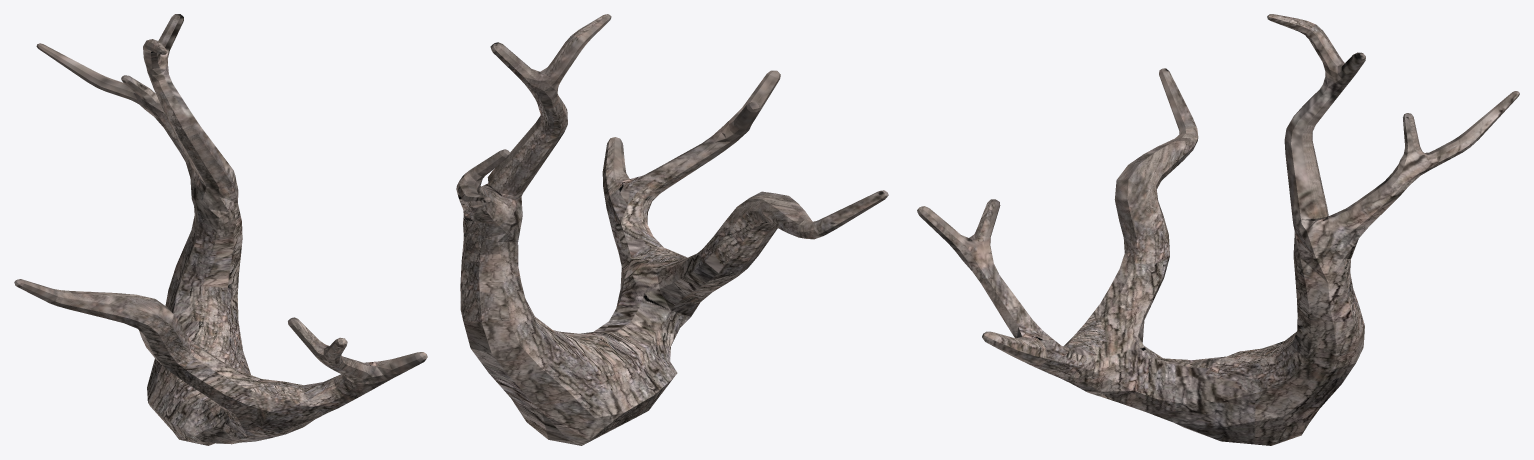
File: bush4.obj
3 renders of one model, left to right at view 1: azimuth 30°, elevation 25°; view 2: azimuth 150°, elevation 25°; view 3: azimuth 270°, elevation 25°, orthographic. The views are drawn at different scales.
Visible parts, largest first — view 1: Cube.008_Cube.009; view 2: Cube.008_Cube.009; view 3: Cube.008_Cube.009.
Boxes of the visible parts, x1,y1,x2,y2 form: Cube.008_Cube.009: (14, 14, 427, 445); Cube.008_Cube.009: (456, 14, 888, 445); Cube.008_Cube.009: (917, 14, 1519, 445).
Bounding box in the file's own units: 1.69 × 1.86 × 2.51.
